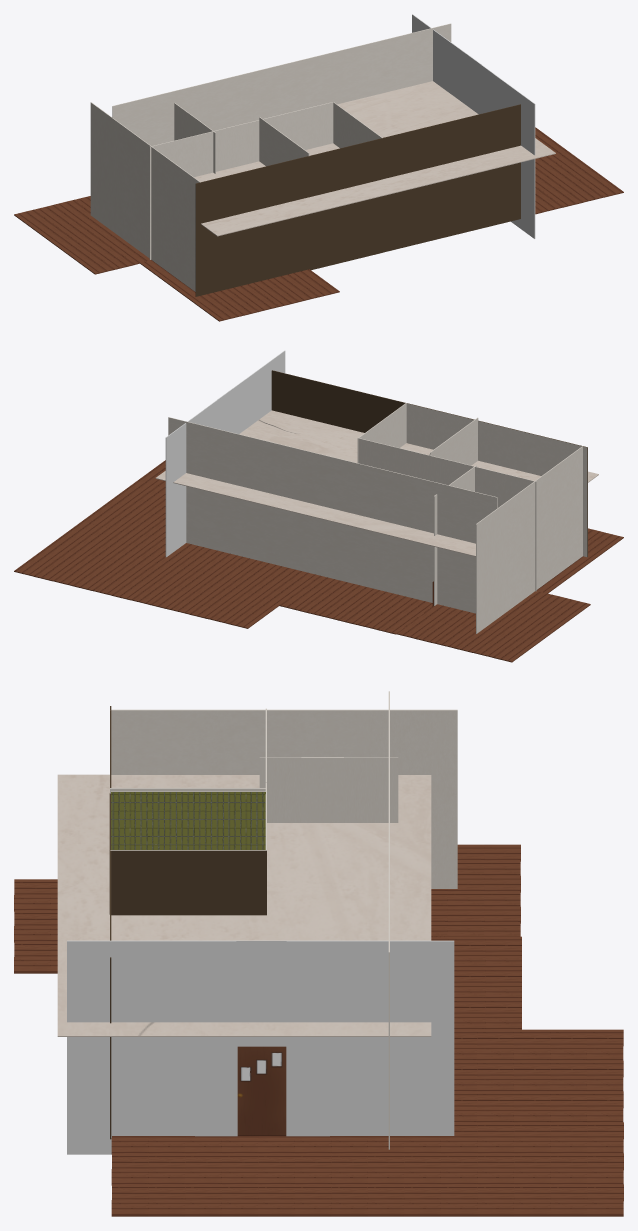
File: MODEL_house.fbx
3 views of the same model, one above another, from view 1: azimuth 30°, elevation 25°; view 2: azimuth 150°, elevation 25°; view 3: azimuth 270°, elevation 25° (orthographic). The views are drawn at different scales.
Visible parts, largest first — view 1: Cube.014, Cube.006, Cube.057, THIS IS THE CIELING, Cube.003, Cube.037, Cube.004, Cube.040, Cube.053, Cube.012, Cube.008, Cube.044 (+4 smaller); view 2: Cube.014, Cube.017, Cube.003, Cube.016, THIS IS THE CIELING, Cube.040, Cube.004, Cube.009, Cube.006, Cube.057, Cube.044, Cube.008 (+6 smaller); view 3: Cube.004, THIS IS THE CIELING, Cube.017, Cube.008, Cube.016, Cube.003, Cube.011, Cube.023, Cube.044, Cube.040, Cube.015, Cube.009 (+4 smaller).
Boxes of the visible parts, x1,y1,x2,y2 form: Cube.014: (112, 23, 451, 146); Cube.006: (382, 104, 520, 252); Cube.057: (195, 156, 309, 296); THIS IS THE CIELING: (194, 81, 555, 236); Cube.003: (118, 123, 200, 291); Cube.037: (309, 138, 382, 270); Cube.004: (412, 14, 535, 238); Cube.040: (14, 196, 150, 274); Cube.053: (140, 260, 339, 321); Cube.012: (149, 120, 259, 259); Cube.008: (535, 133, 623, 214); Cube.044: (90, 102, 122, 235); Cube.014: (168, 417, 497, 613); Cube.017: (14, 513, 201, 600); Cube.003: (504, 446, 582, 610); Cube.016: (131, 547, 319, 628); THIS IS THE CIELING: (155, 410, 598, 556); Cube.040: (396, 591, 590, 662); Cube.004: (165, 350, 285, 557); Cube.009: (279, 575, 432, 634); Cube.006: (271, 370, 405, 432); Cube.057: (478, 420, 587, 557); Cube.044: (476, 501, 507, 633); Cube.008: (93, 460, 165, 530); Cube.004: (67, 940, 454, 1154); THIS IS THE CIELING: (57, 774, 431, 1036); Cube.017: (367, 1122, 623, 1216); Cube.008: (111, 1136, 368, 1216); Cube.016: (454, 1029, 623, 1122); Cube.003: (111, 709, 368, 774); Cube.011: (110, 850, 266, 915); Cube.023: (111, 791, 265, 849); Cube.044: (357, 709, 457, 888); Cube.040: (431, 844, 520, 937); Cube.015: (272, 757, 373, 822); Cube.009: (431, 936, 521, 1029).
Bounding box in the file's own units: 25967 × 7127 × 18059.
